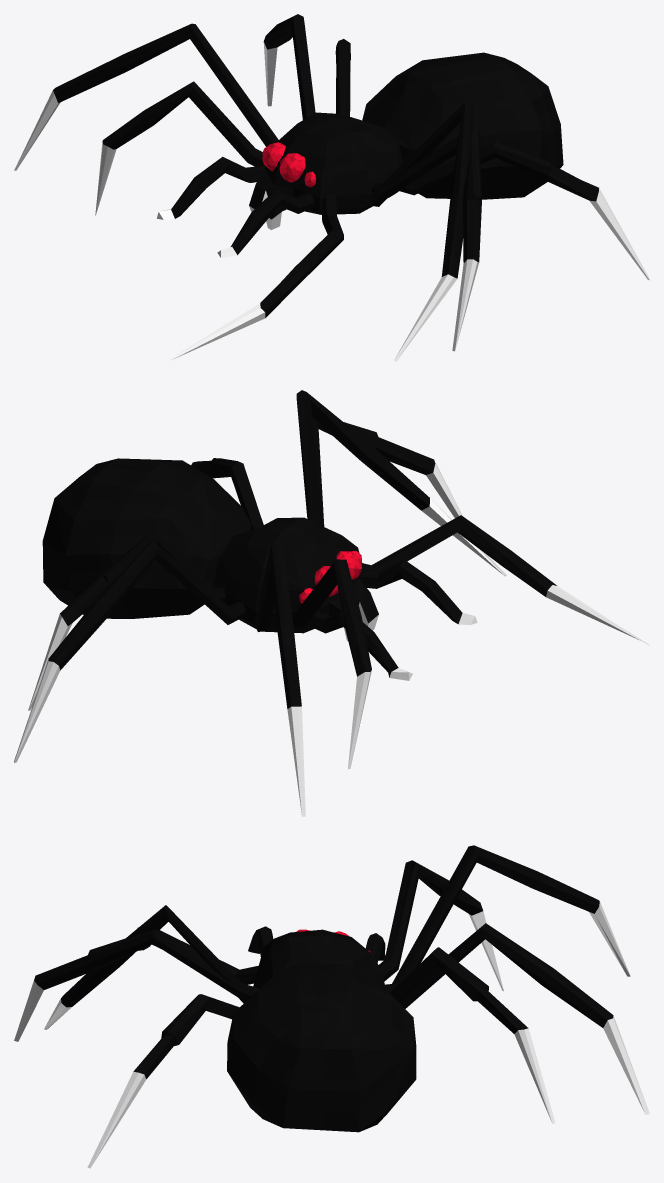
Rendered from spiderWalking11.obj.
3 renders of one model, top to bottom at view 1: azimuth 30°, elevation 25°; view 2: azimuth 150°, elevation 25°; view 3: azimuth 270°, elevation 25°, orthographic. The views are drawn at different scales.
Visible parts, largest first — view 1: Cube.001_Cube.002; view 2: Cube.001_Cube.002; view 3: Cube.001_Cube.002.
Part boxes in pixels (box(x1,y1,x2,y2)): Cube.001_Cube.002: box(14, 14, 649, 361); Cube.001_Cube.002: box(14, 390, 649, 816); Cube.001_Cube.002: box(14, 845, 649, 1168).
Size of the model in its own units: 29.62 by 11.31 by 34.27.
